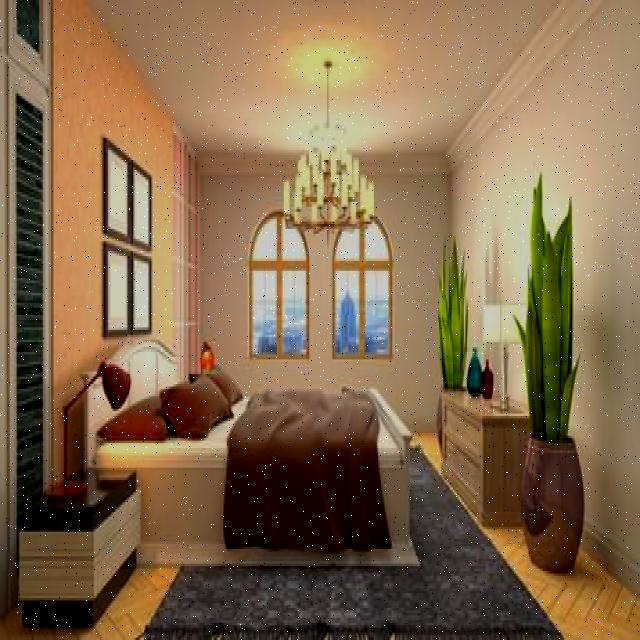bed: (118, 368, 411, 561)
